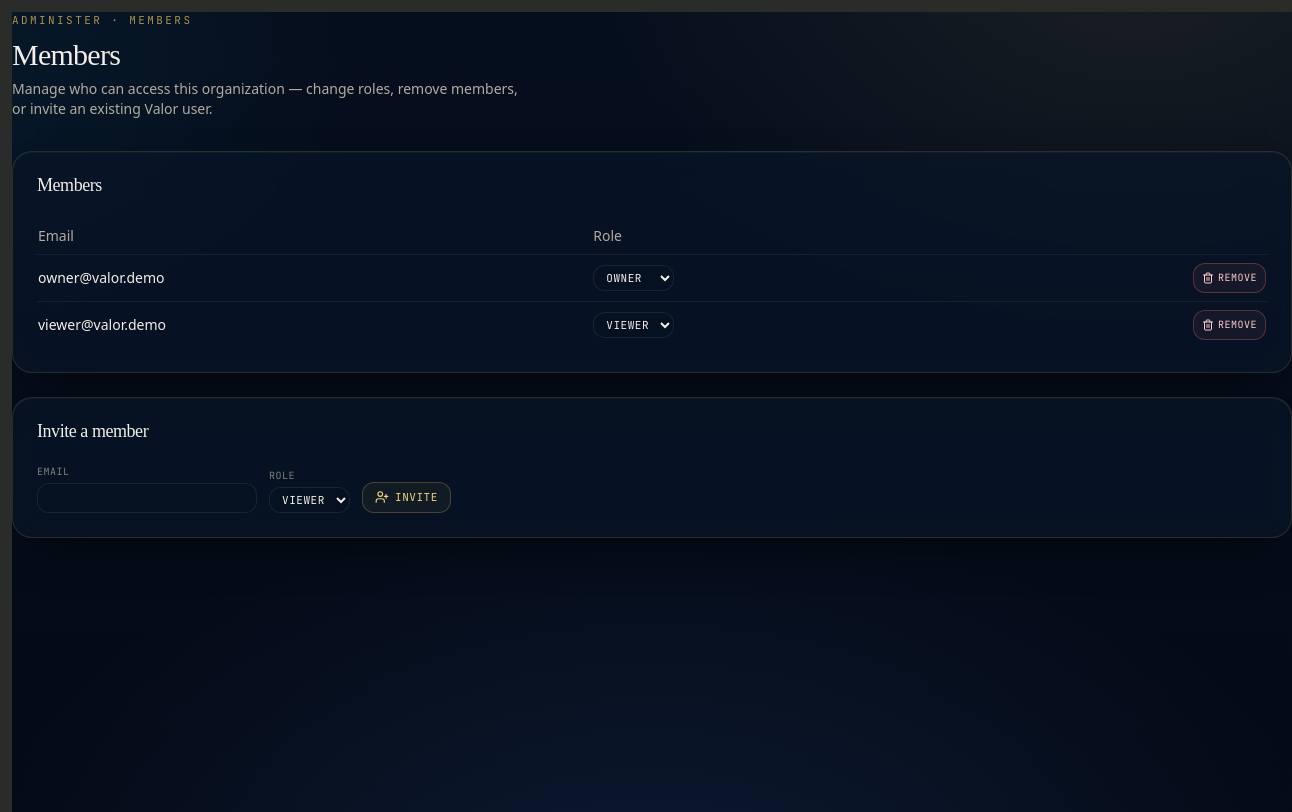
MembersAdmin › surfaces the last-owner guard inline (no unhandled throw)
The width and height of the screenshot is (1292, 812).
Expected: the text "owner@valor.demo" is shown, [37,254,592,301]
Step 1. Click the button with aria-label "Remove owner@valor.demo" → coordinates (1230, 278), box [1193,262,1266,292]
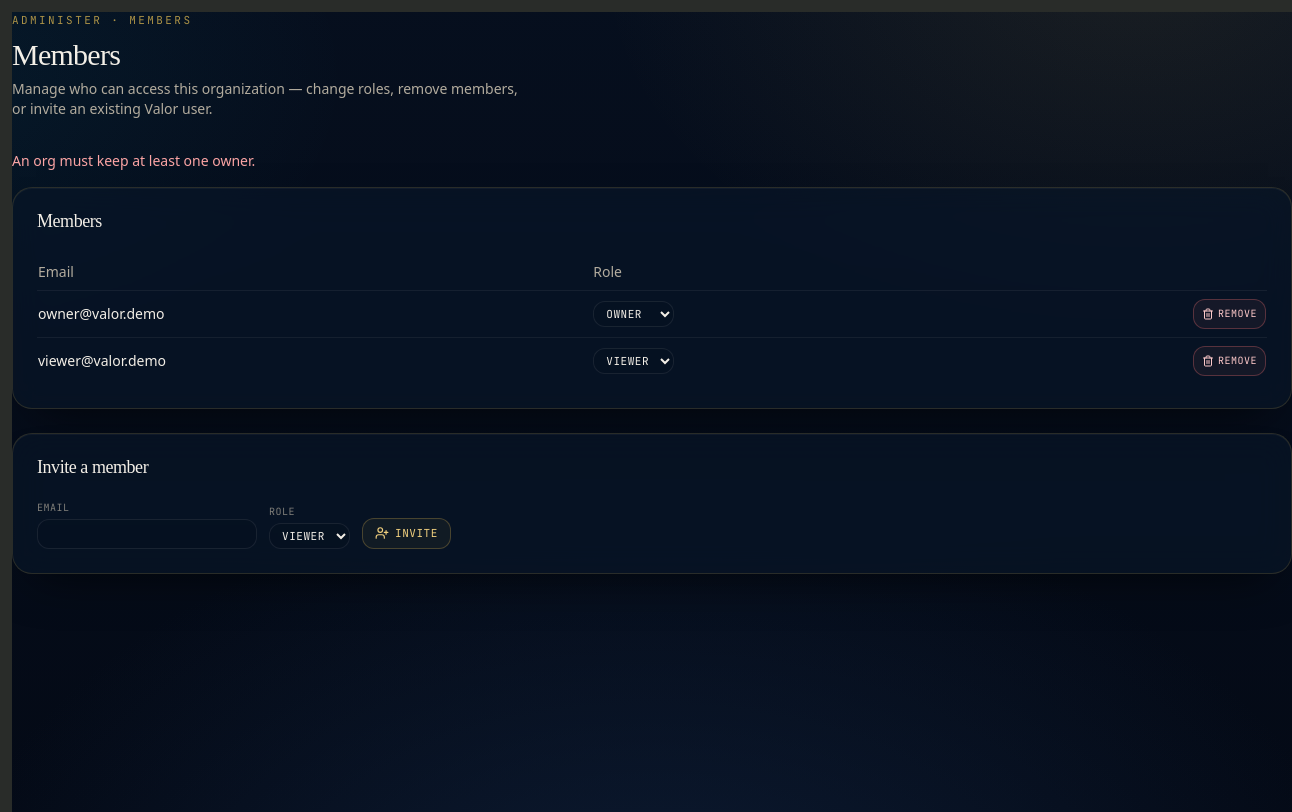
Result: the text "An org must keep at least one owner." is shown at [12,150,255,170]
